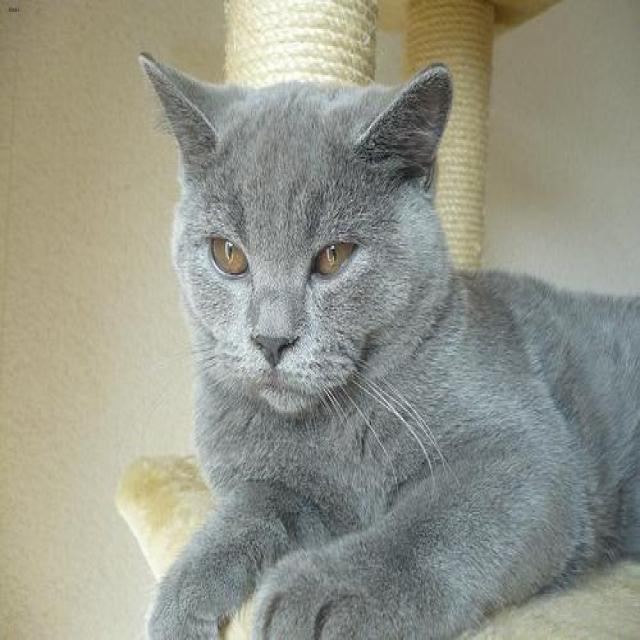cat: (137, 48, 640, 640)
